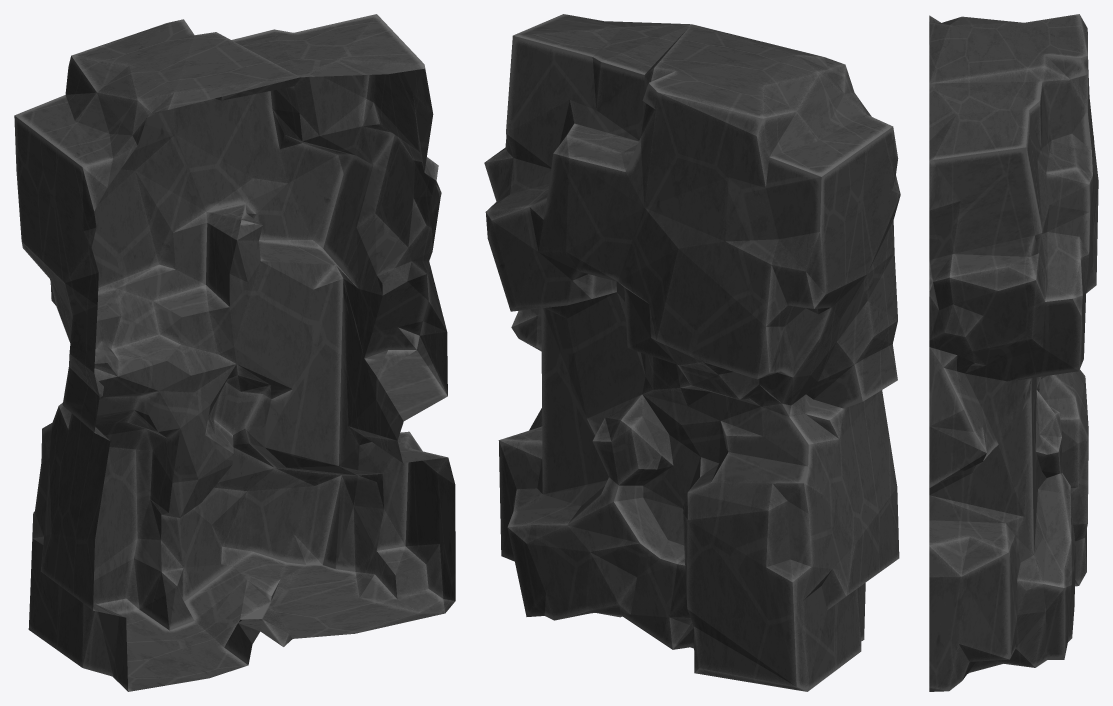
File: CLIFF 2.fbx
3 renders of one model, left to right at view 1: azimuth 30°, elevation 25°; view 2: azimuth 150°, elevation 25°; view 3: azimuth 270°, elevation 25°, orthographic. The views are drawn at different scales.
Visible parts, largest first — view 1: CLIFF 2; view 2: CLIFF 2; view 3: CLIFF 2.
Boxes of the visible parts, <box> form: CLIFF 2: <box>14,14,455,691</box>; CLIFF 2: <box>484,14,900,691</box>; CLIFF 2: <box>929,14,1098,691</box>.
Bounding box in the file's own units: 13.34 × 20.53 × 5.66.
